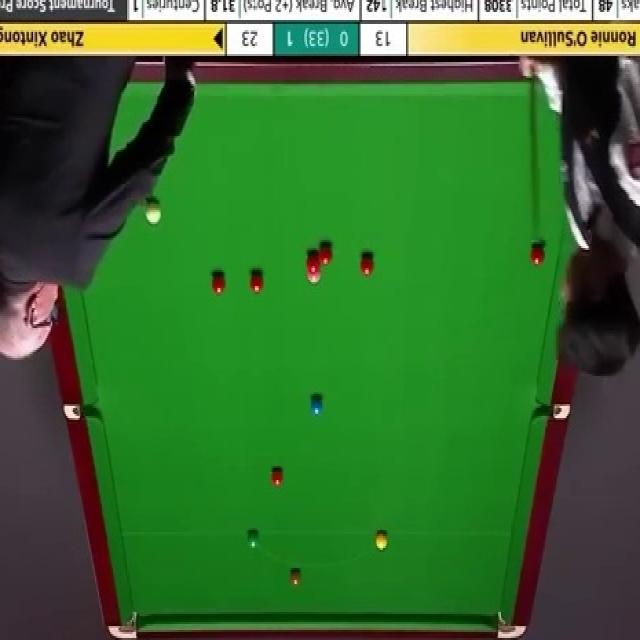pocket: (108, 612, 139, 637), (496, 612, 525, 638), (537, 400, 569, 421), (65, 400, 98, 420)
